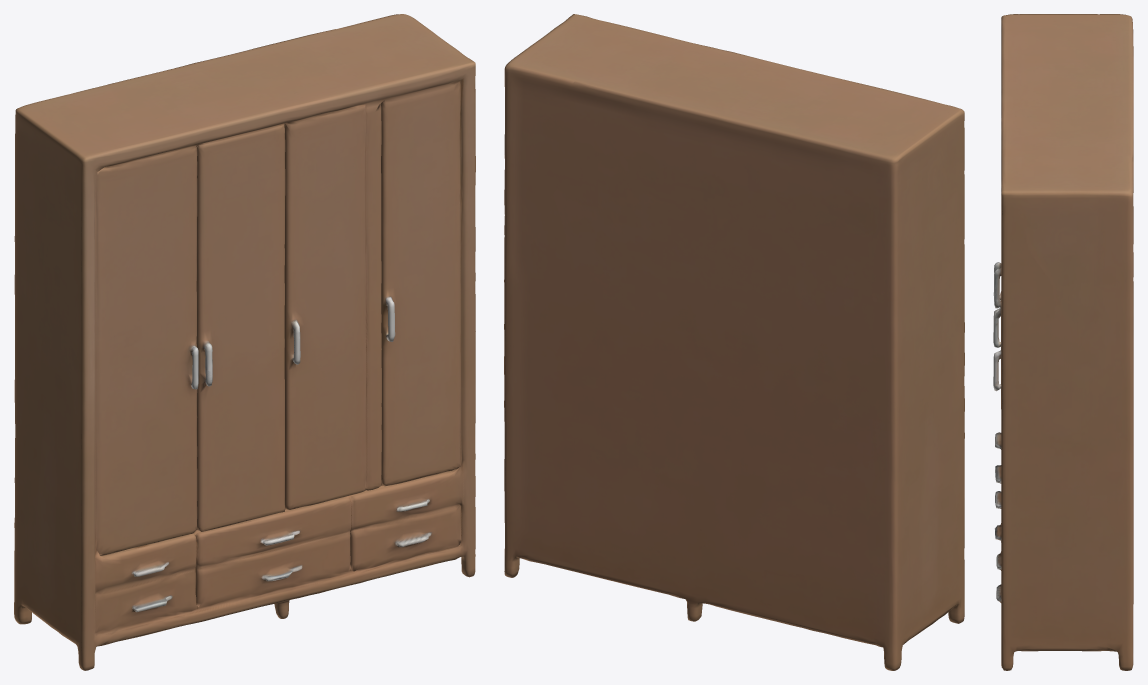
File: wardrobe.glb
3 views of the same model, side by side, from view 1: azimuth 30°, elevation 25°; view 2: azimuth 150°, elevation 25°; view 3: azimuth 270°, elevation 25° (orthographic). The views are drawn at different scales.
Parts seen in each view (by area): view 1: model; view 2: model; view 3: model.
Part boxes in pixels (bbox=[...]): model: bbox=[14, 14, 475, 670]; model: bbox=[504, 14, 964, 670]; model: bbox=[993, 14, 1133, 670].
Bounding box in the file's own units: 1.53 × 1.91 × 0.5066.
1 material, 1 textured.
